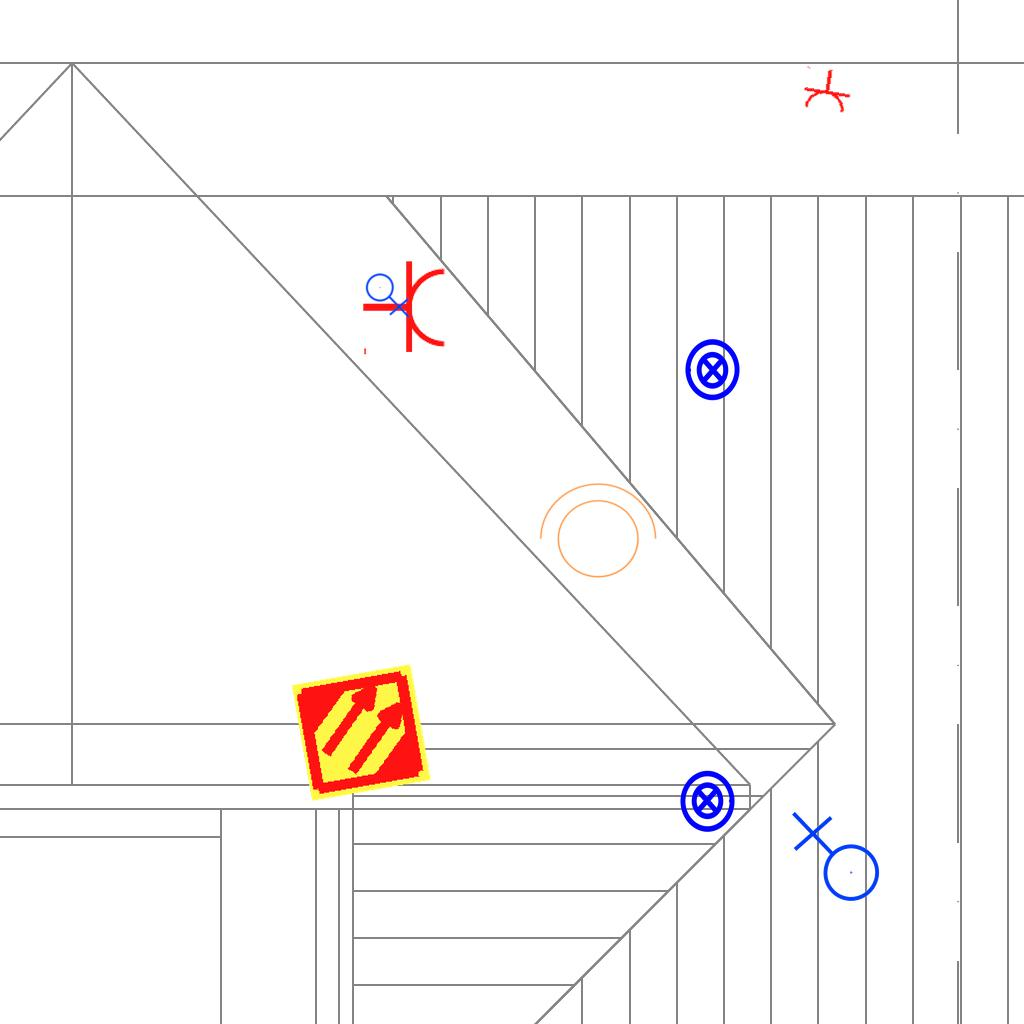ASR_Ansaugrauchmelder: (289, 660, 434, 805)
Elektroanschluss_allgemein_230V_Geraeteanschlussdose_230V: (787, 811, 881, 910), (365, 269, 412, 318)
Scheinwerfer_fuer_Alarmbeleuchtung: (529, 478, 661, 590)
Schukosteckdose_einfach: (361, 259, 448, 359), (798, 64, 855, 116)
Taster_beleuchtet: (680, 337, 746, 403), (674, 768, 740, 834)
